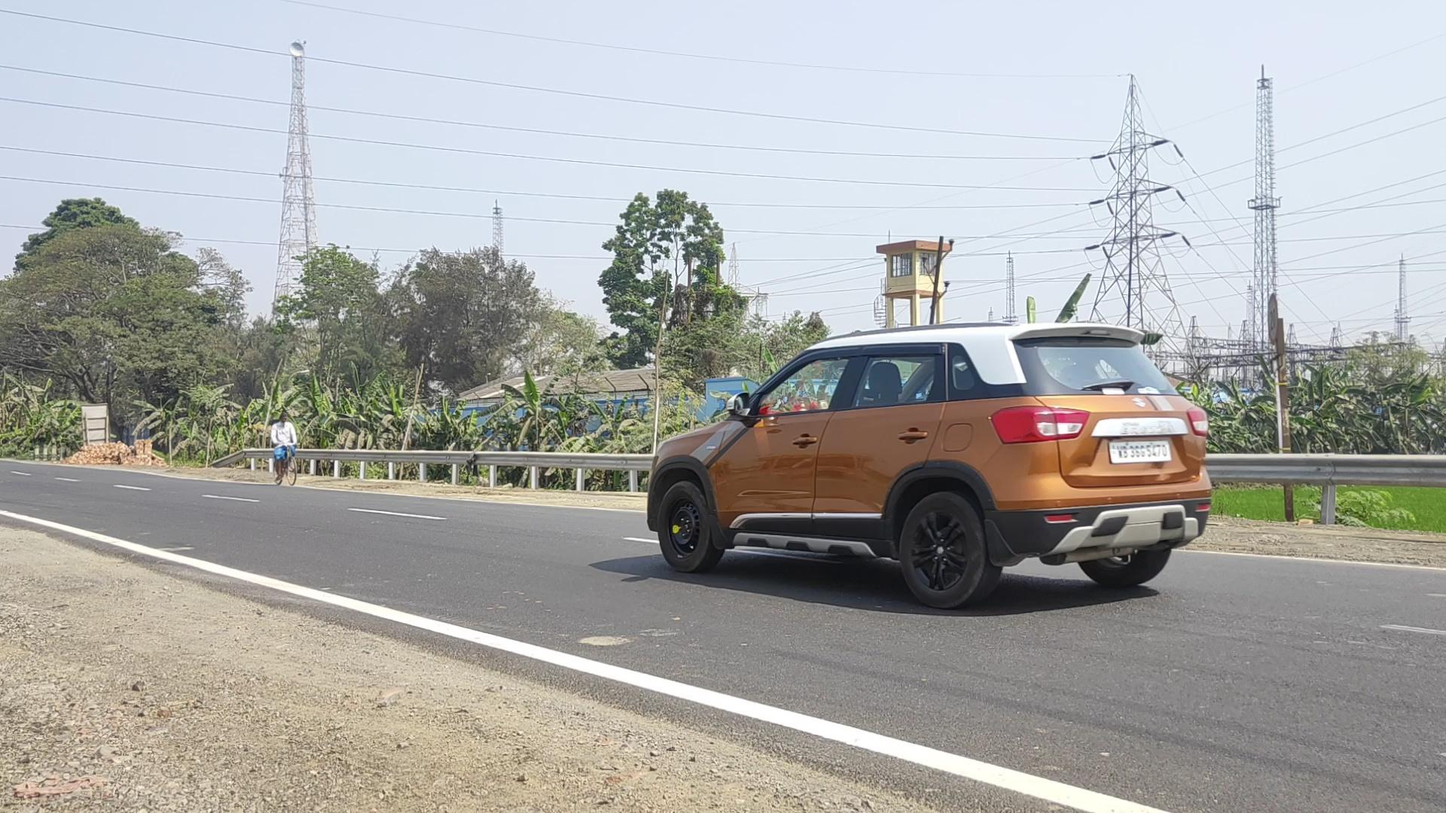bike: (270, 412, 298, 486)
car: (647, 322, 1213, 611)
